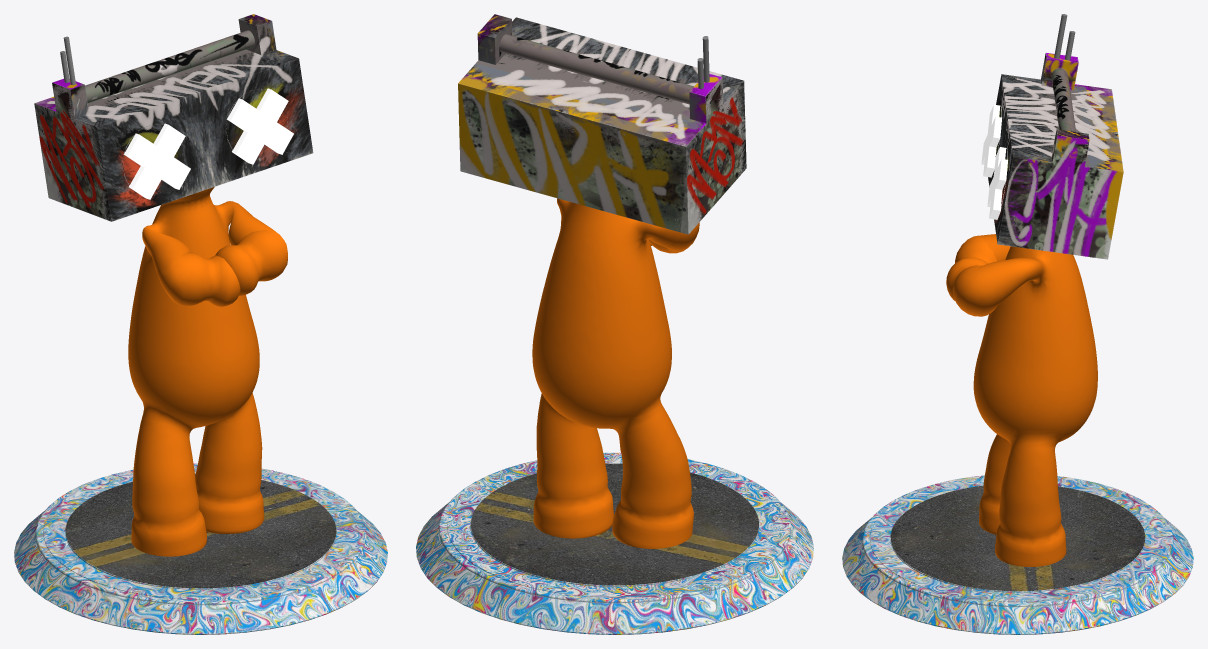
The model's file is 78_sanitized.glb.
3 renders of one model, left to right at view 1: azimuth 30°, elevation 25°; view 2: azimuth 150°, elevation 25°; view 3: azimuth 270°, elevation 25°, orthographic. The views are drawn at different scales.
Visible parts, largest first — view 1: BBody; view 2: BBody; view 3: BBody.
Part boxes in pixels (x1,y1,x2,y2): BBody: (14, 14, 387, 634); BBody: (416, 14, 813, 634); BBody: (842, 14, 1193, 634).
Size of the model in its own units: 1.45 by 2.25 by 1.45.
Materials: 6 (3 with a texture image).
